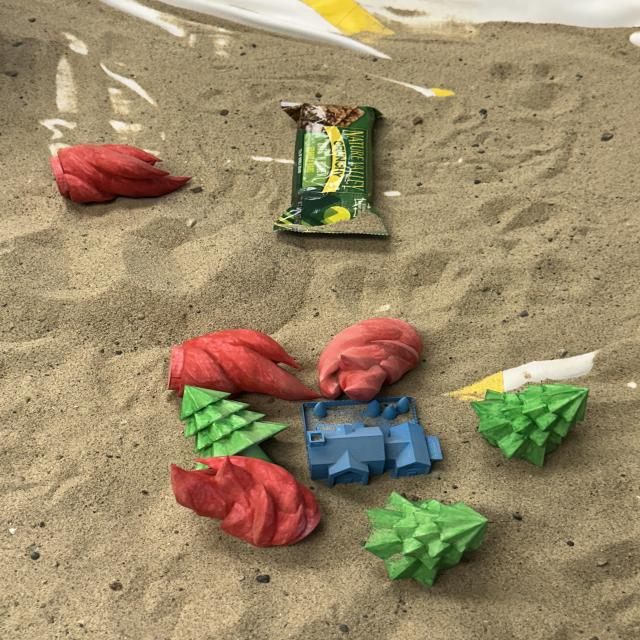fire: (168, 453, 323, 549), (172, 329, 316, 396), (47, 141, 193, 205), (320, 316, 422, 394)
house: (299, 394, 444, 488)
tree: (361, 490, 490, 588), (472, 381, 590, 468), (182, 388, 291, 460)
